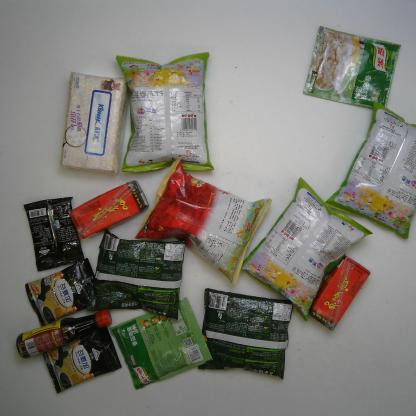Drink: (308, 255, 370, 331), (69, 181, 148, 238)
Instant Drink: (43, 324, 121, 392), (25, 258, 100, 326), (23, 196, 85, 272)
Instant Noodles: (197, 288, 297, 380), (88, 230, 187, 320)
Puffed Food: (239, 177, 373, 321), (136, 157, 272, 284), (325, 100, 416, 239), (115, 52, 215, 174)
Seasoner: (108, 296, 212, 390), (303, 25, 401, 111), (16, 309, 111, 359)
Tissue: (60, 71, 132, 174)
